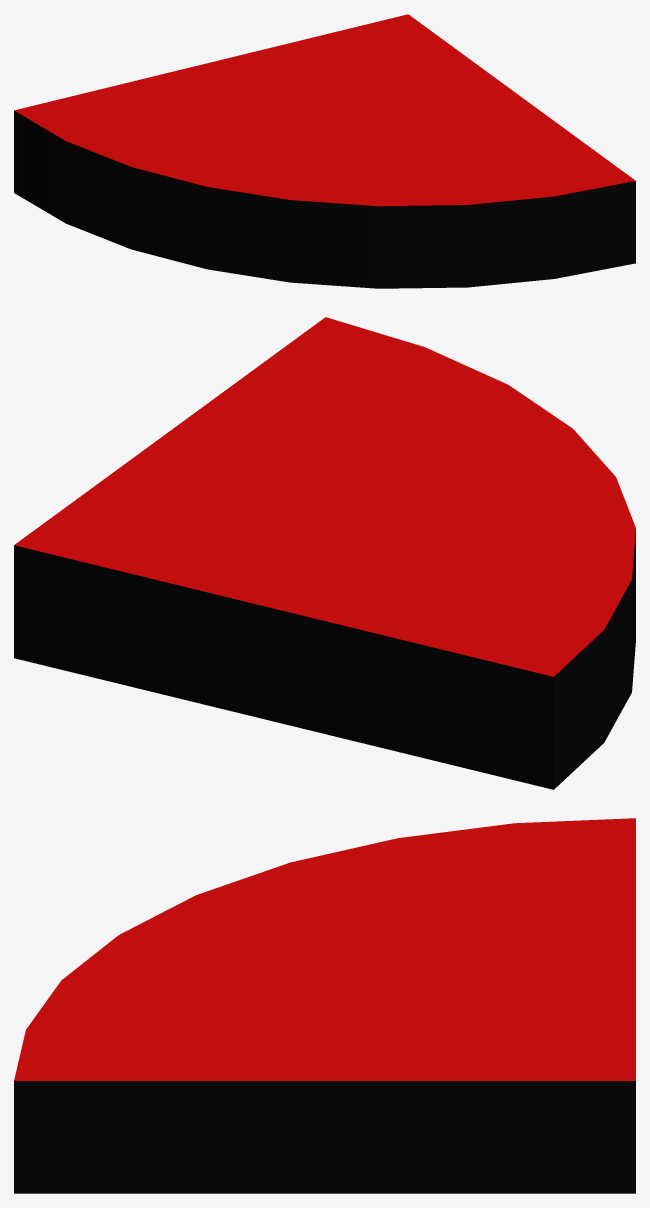
The model's file is PlatformFlatPie_90Deg.fbx.
3 renders of one model, top to bottom at view 1: azimuth 30°, elevation 25°; view 2: azimuth 150°, elevation 25°; view 3: azimuth 270°, elevation 25°, orthographic. The views are drawn at different scales.
Visible parts, largest first — view 1: PlatformFlatPie_90Deg; view 2: PlatformFlatPie_90Deg; view 3: PlatformFlatPie_90Deg.
Part boxes in pixels (x1,y1,x2,y2): PlatformFlatPie_90Deg: (14,14,635,288); PlatformFlatPie_90Deg: (14,317,635,789); PlatformFlatPie_90Deg: (14,818,635,1193).
Bounding box in the file's own units: 5 × 1 × 5.
